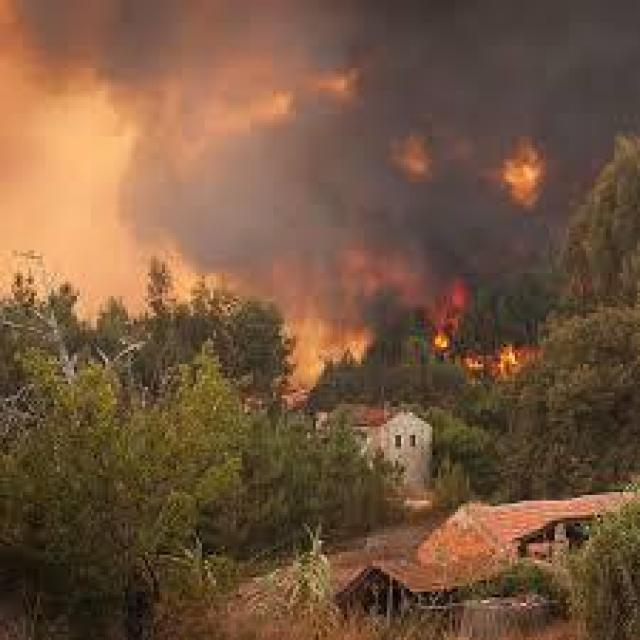Fire: (418, 283, 556, 405)
Smoke: (0, 0, 636, 282)
